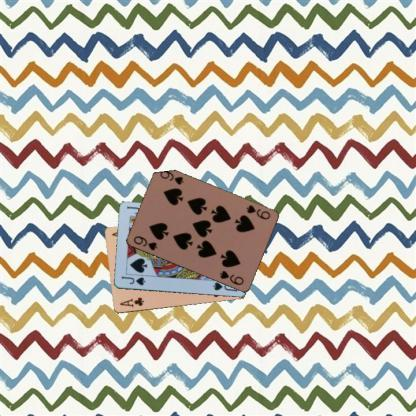9s: (130, 233, 158, 252), (244, 202, 271, 221)
Ac: (117, 295, 145, 309)
Js: (119, 273, 146, 287)
